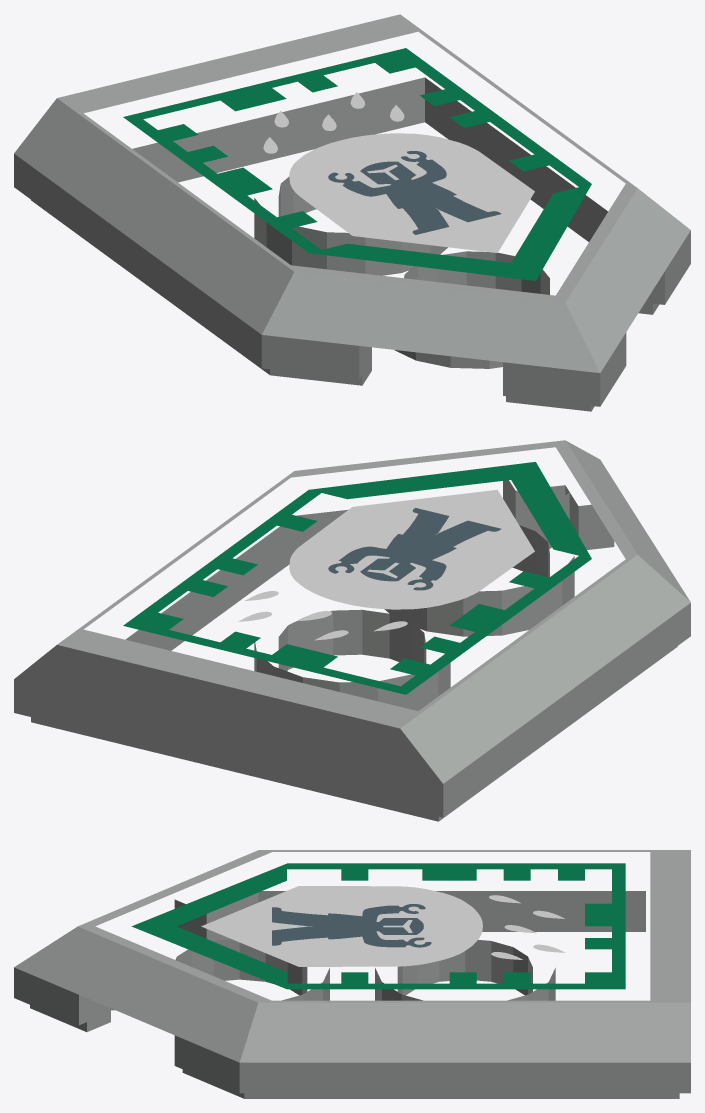
3 views of the same model, one above another, from view 1: azimuth 30°, elevation 25°; view 2: azimuth 150°, elevation 25°; view 3: azimuth 270°, elevation 25° (orthographic). The views are drawn at different scales.
Parts seen in each view (by area): view 1: world; view 2: world; view 3: world.
Part boxes in pixels (x1,y1,x2,y2): world: (14,14,690,411); world: (14,440,690,821); world: (14,850,690,1098).
Bounding box in the file's own units: 0.016 × 0.0032 × 0.024.
